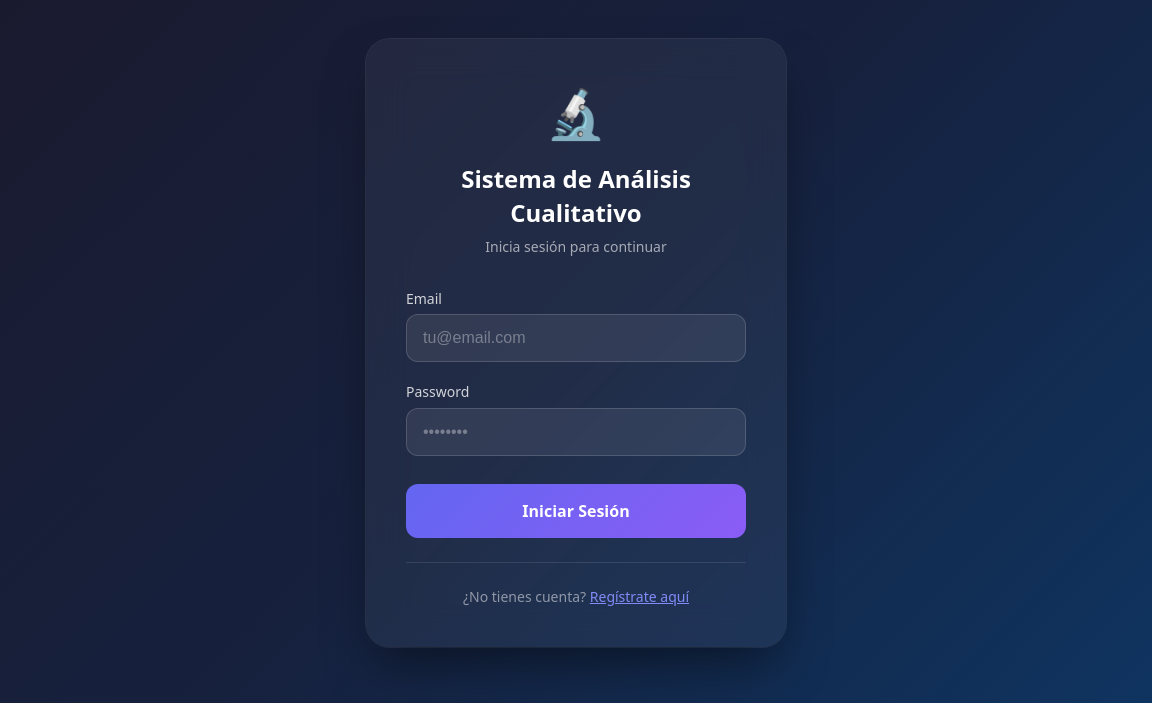
AuthPage › switches back to login form from register
// Go to register
Click the button "Regístrate aquí". click: (639, 597)
box: [590,588,689,607]
(page scrolled)
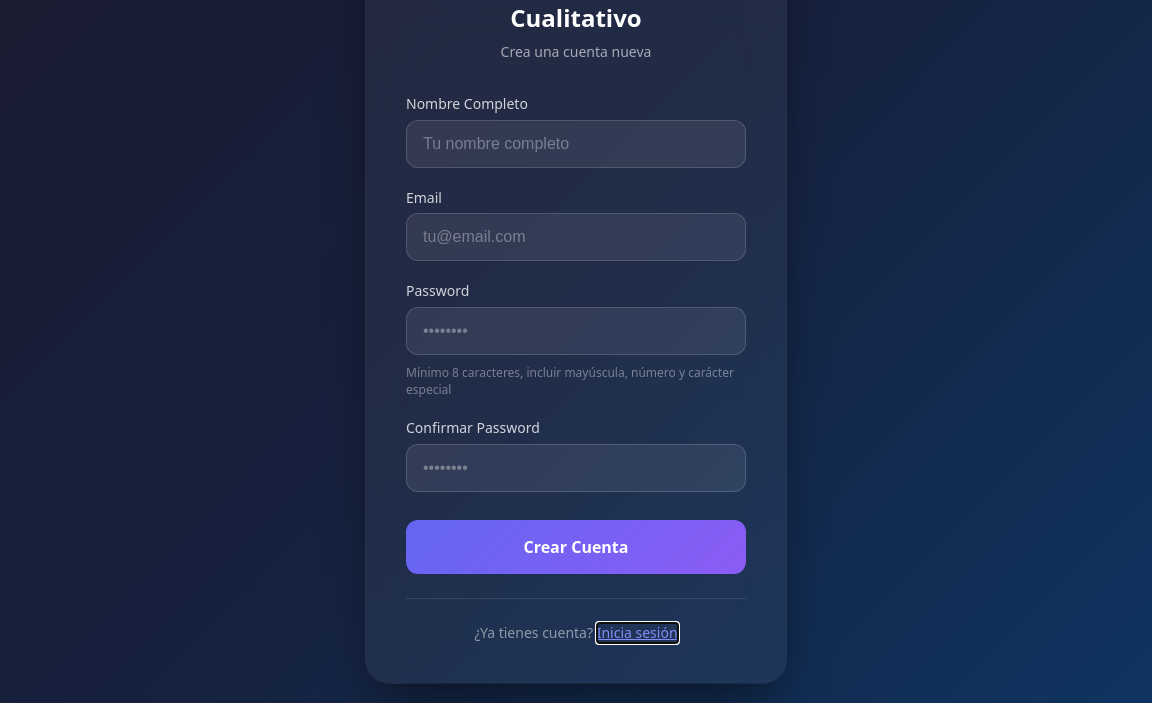
Now the password field labelled "Confirmar Password" is shown, box [406,444,746,492]
// Click login button
Click the button "Inicia sesión". click: (637, 633)
box: [597,623,678,643]
(page scrolled)
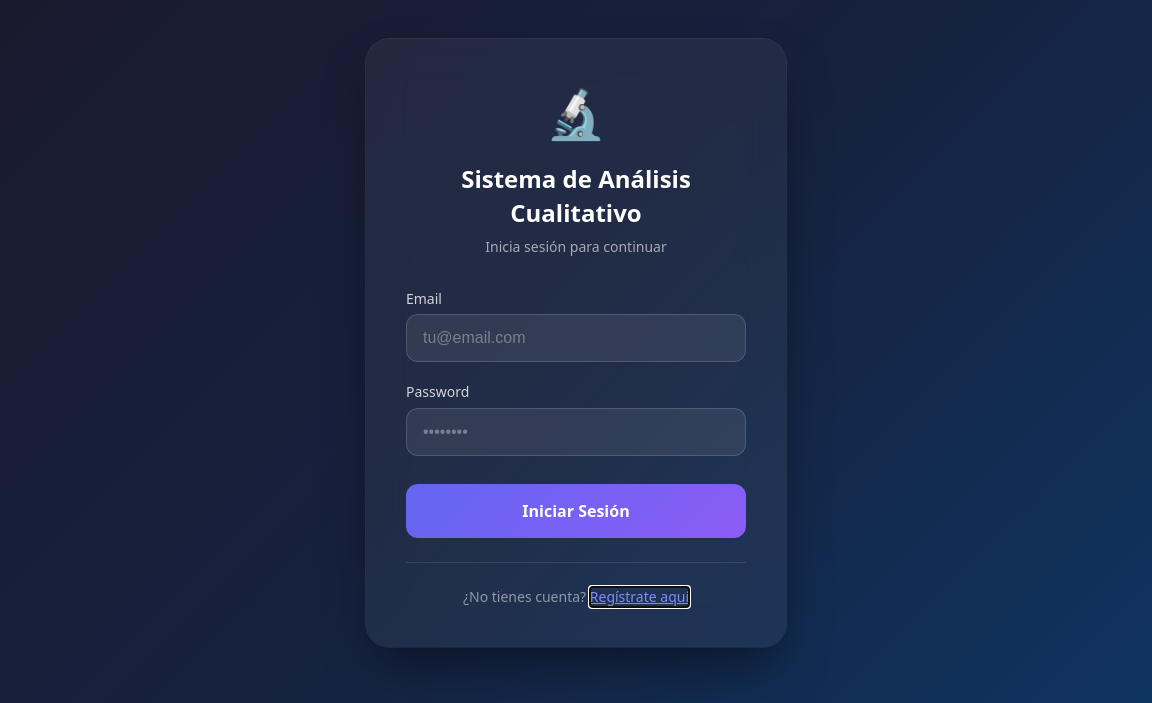
Now the text "Inicia sesión para continuar" is shown, box [485,237,667,256]
Now the button "Iniciar Sesión" is shown, box [406,484,746,538]
Now the label labelled "Nombre Completo" is gone
